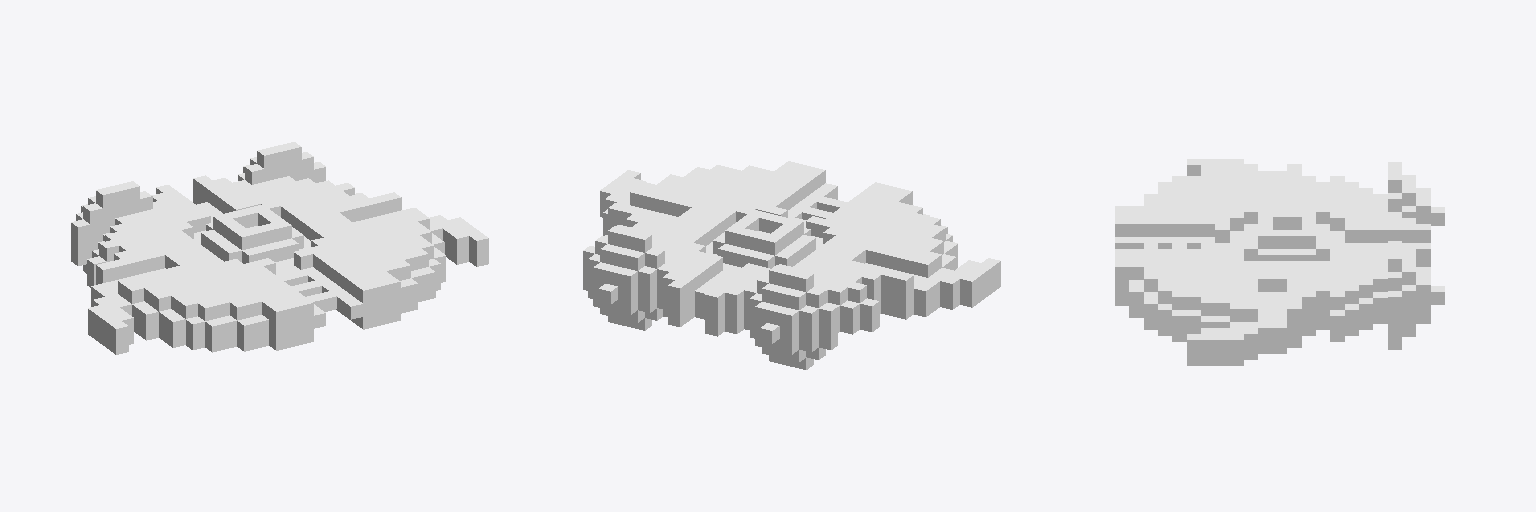
File: EnemyModel.obj
The picture shows the model from 3 angles: view 1: azimuth 30°, elevation 25°; view 2: azimuth 150°, elevation 25°; view 3: azimuth 270°, elevation 25°; orthographic projection.
Visible parts, largest first — view 1: object 1; view 2: object 1; view 3: object 1.
Part boxes in pixels (bbox=[...]): object 1: bbox=[71, 142, 488, 354]; object 1: bbox=[583, 161, 1000, 369]; object 1: bbox=[1115, 159, 1444, 365].
Size of the model in its own units: 3 by 0.7 by 2.3.